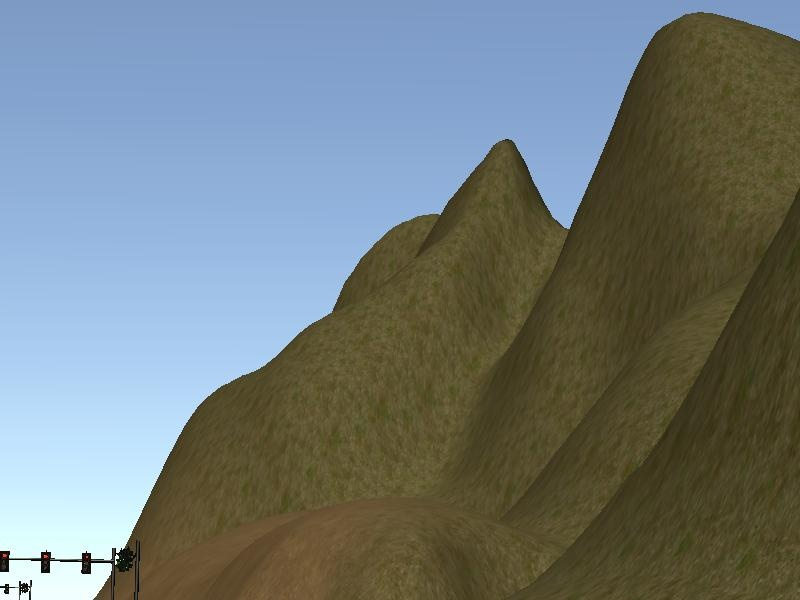traffic_light_red: (1, 550, 108, 574)
